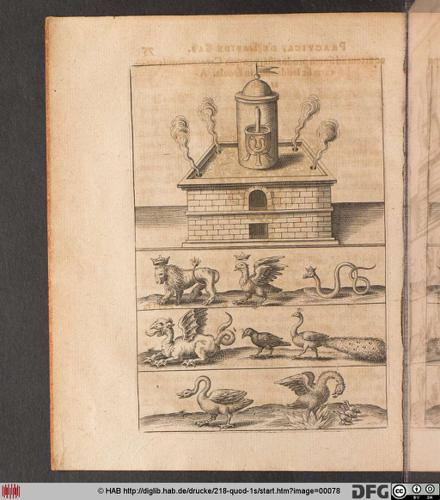bird: (177, 376, 252, 429), (279, 371, 344, 419), (242, 327, 292, 359)
crown: (147, 255, 173, 264), (233, 253, 250, 259)
dragon: (142, 311, 236, 365)
lion: (154, 262, 221, 307)
